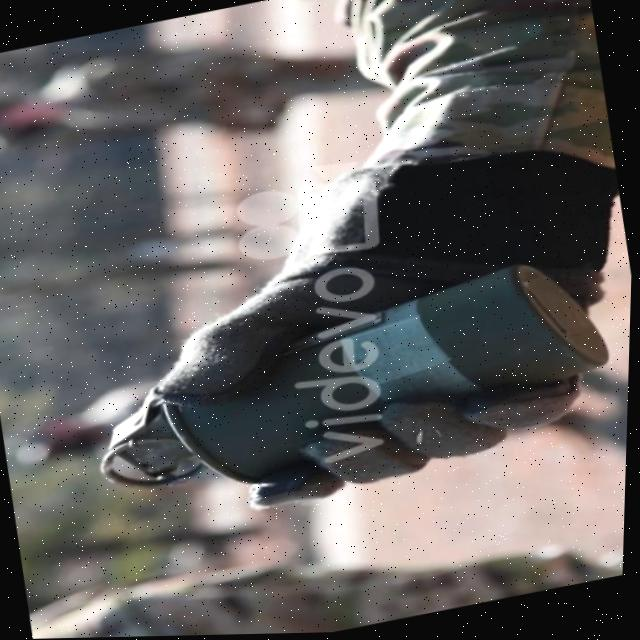grenade: (67, 212, 635, 560)
